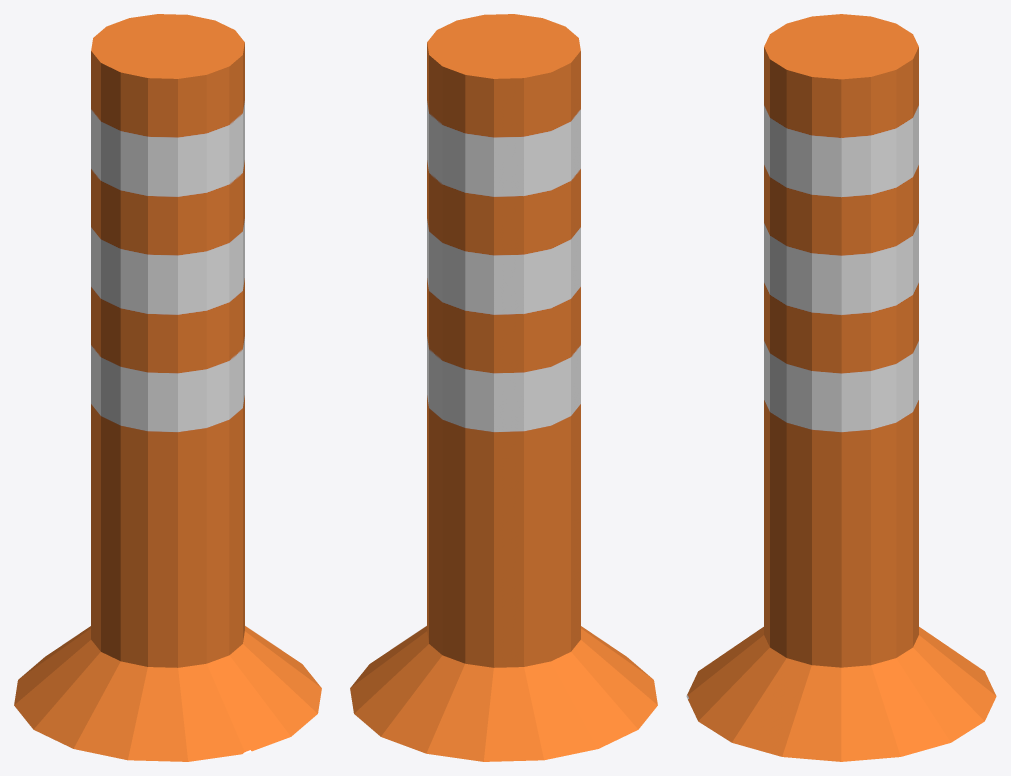
3 renders of one model, left to right at view 1: azimuth 30°, elevation 25°; view 2: azimuth 150°, elevation 25°; view 3: azimuth 270°, elevation 25°, orthographic.
Visible parts, largest first — view 1: Cylinder.001; view 2: Cylinder.001; view 3: Cylinder.001.
Boxes of the visible parts, box(x1,y1,x2,y2) form: Cylinder.001: box(14, 14, 321, 761); Cylinder.001: box(350, 14, 657, 761); Cylinder.001: box(686, 14, 996, 761).
Size of the model in its own units: 1.41 by 3.25 by 1.41.
1 material, 1 textured.
